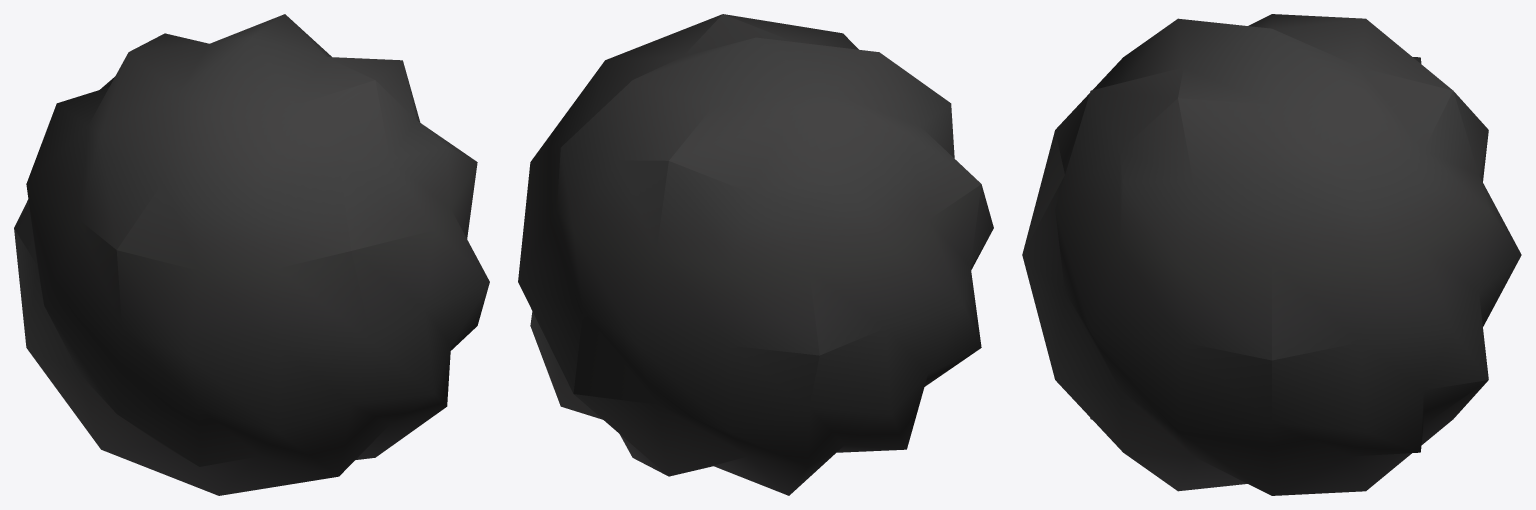
Rendered from Hair_City_Frizzy_01.fbx.
3 views of the same model, side by side, from view 1: azimuth 30°, elevation 25°; view 2: azimuth 150°, elevation 25°; view 3: azimuth 270°, elevation 25° (orthographic). The views are drawn at different scales.
Parts seen in each view (by area): view 1: Hair_City_Frizzy_01; view 2: Hair_City_Frizzy_01; view 3: Hair_City_Frizzy_01.
Boxes of the visible parts, box(x1,y1,x2,y2) form: Hair_City_Frizzy_01: box(14, 14, 489, 495); Hair_City_Frizzy_01: box(518, 14, 993, 495); Hair_City_Frizzy_01: box(1022, 14, 1521, 495).
Bounding box in the file's own units: 132 × 132 × 132.
